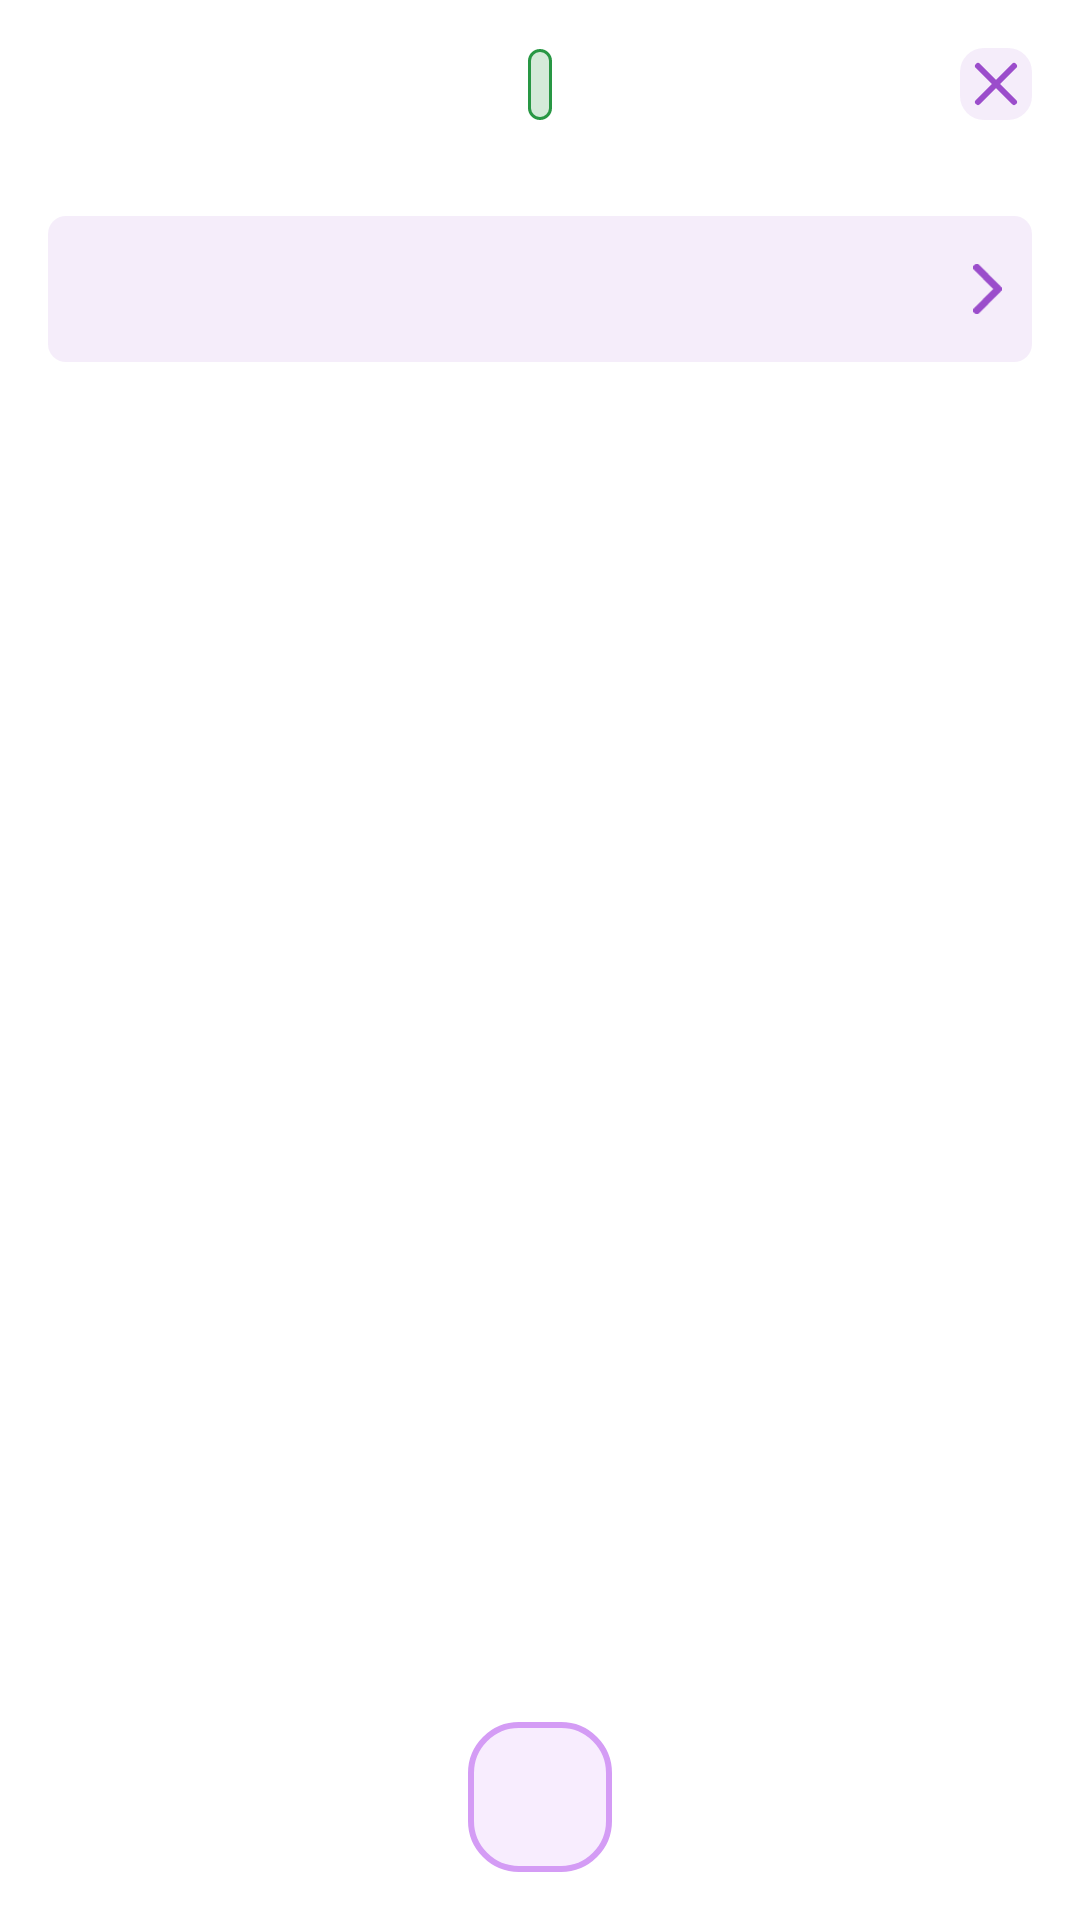

Icon click points for this 1080 × 1920 phone screenshot, format [x,y]:
arrow: [987,289]
close review window btn: [996,84]
